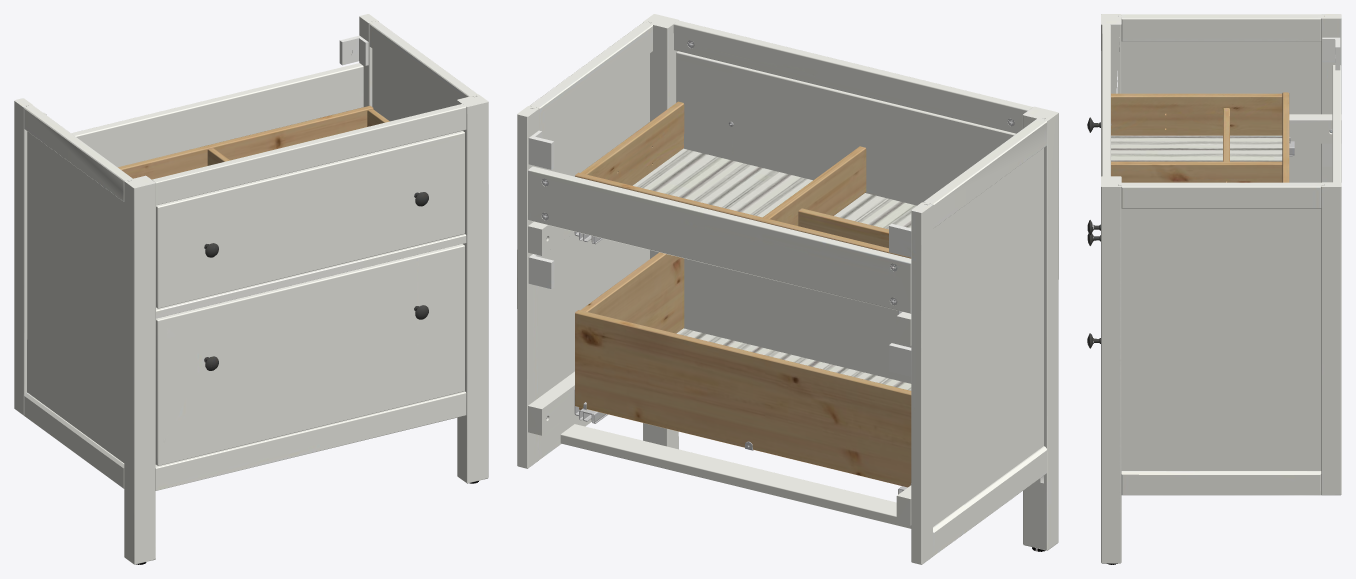
Rendered from hemnes_szafka_pod_umywalke_z_2_szufladami_20217664.glb.
3 renders of one model, left to right at view 1: azimuth 30°, elevation 25°; view 2: azimuth 150°, elevation 25°; view 3: azimuth 270°, elevation 25°, orthographic. The views are drawn at different scales.
Parts seen in each view (by area): view 1: hemnes_szafka_pod_umywalke_z_2_szufladami_20217664; view 2: hemnes_szafka_pod_umywalke_z_2_szufladami_20217664; view 3: hemnes_szafka_pod_umywalke_z_2_szufladami_20217664.
Part boxes in pixels (bbox=[...]): hemnes_szafka_pod_umywalke_z_2_szufladami_20217664: bbox=[14, 14, 488, 564]; hemnes_szafka_pod_umywalke_z_2_szufladami_20217664: bbox=[517, 14, 1058, 564]; hemnes_szafka_pod_umywalke_z_2_szufladami_20217664: bbox=[1087, 14, 1341, 564].
Bounding box in the file's own units: 0.8 × 0.8215 × 0.4969.
Materials: 1 (1 with a texture image).
